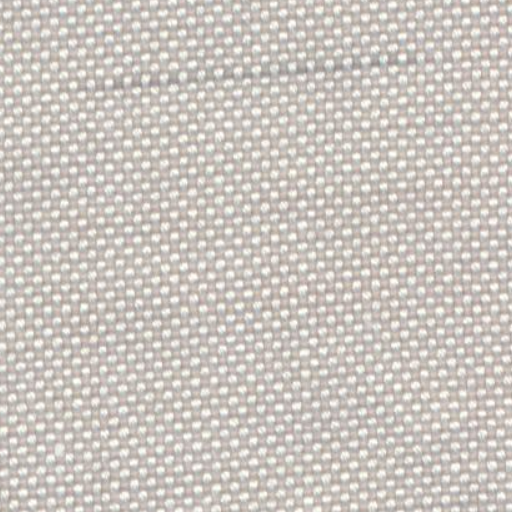WuZi: (96, 50, 424, 90)
